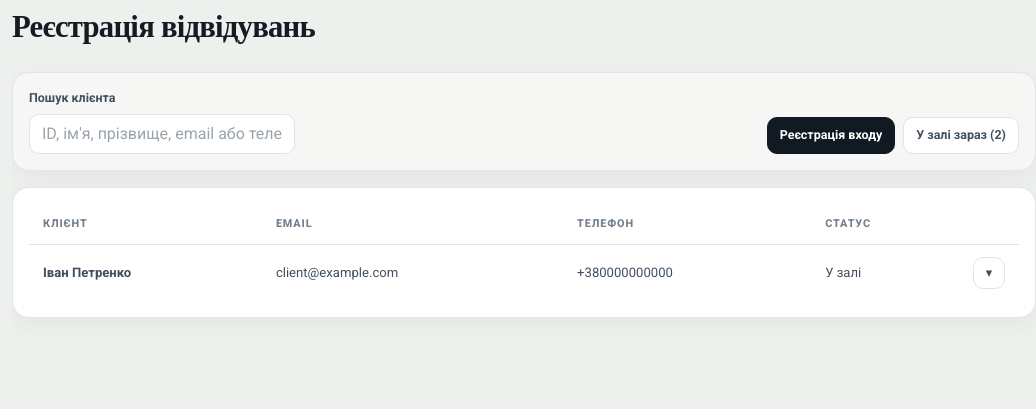
CheckInPage › filters active visitors by id
Click the button "У залі зараз (2)" at (961, 135), box [903,117,1019,154]
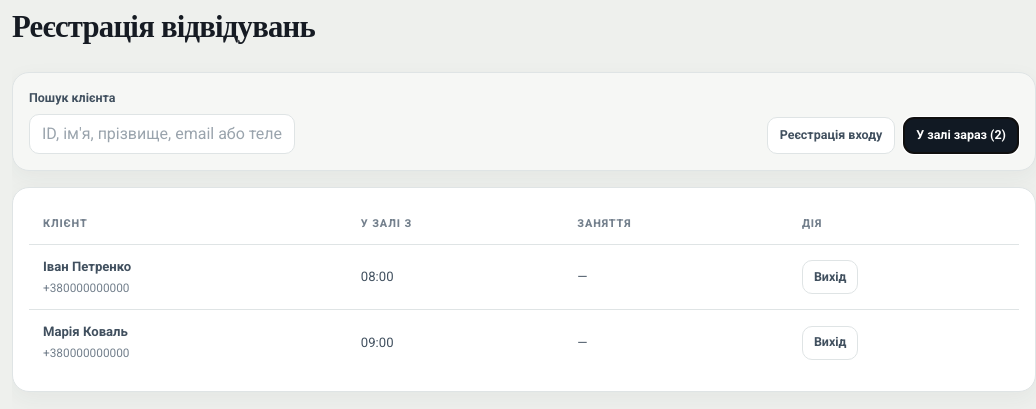
Type "client-2" into the field named "Пошук клієнта у залі" at (162, 134), box [29,114,295,154]
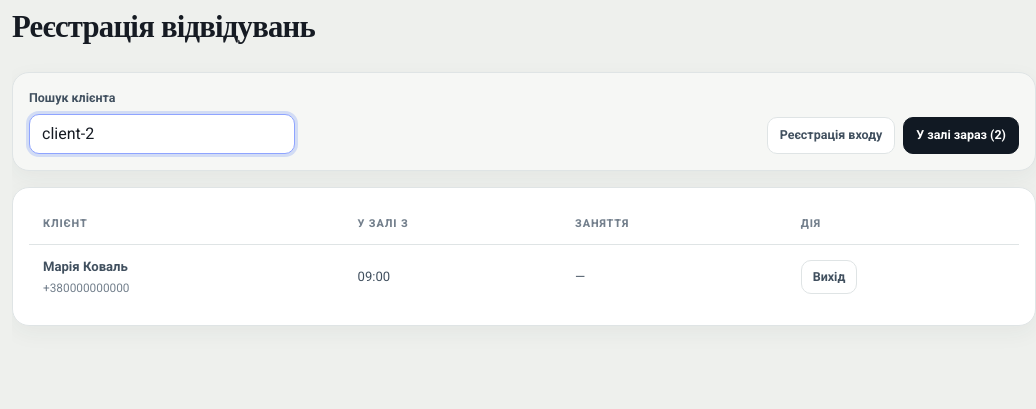
Expected: the text "Марія Коваль" is shown, [43,259,128,274]
Expected: the text "Іван Петренко" is gone
